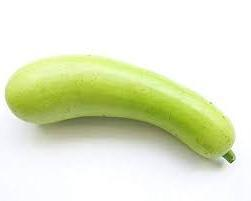bottle gourd: (4, 52, 236, 164)
